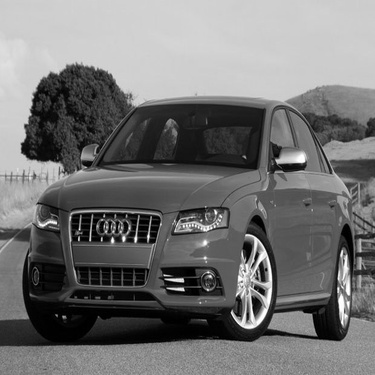car: (17, 90, 364, 354)
